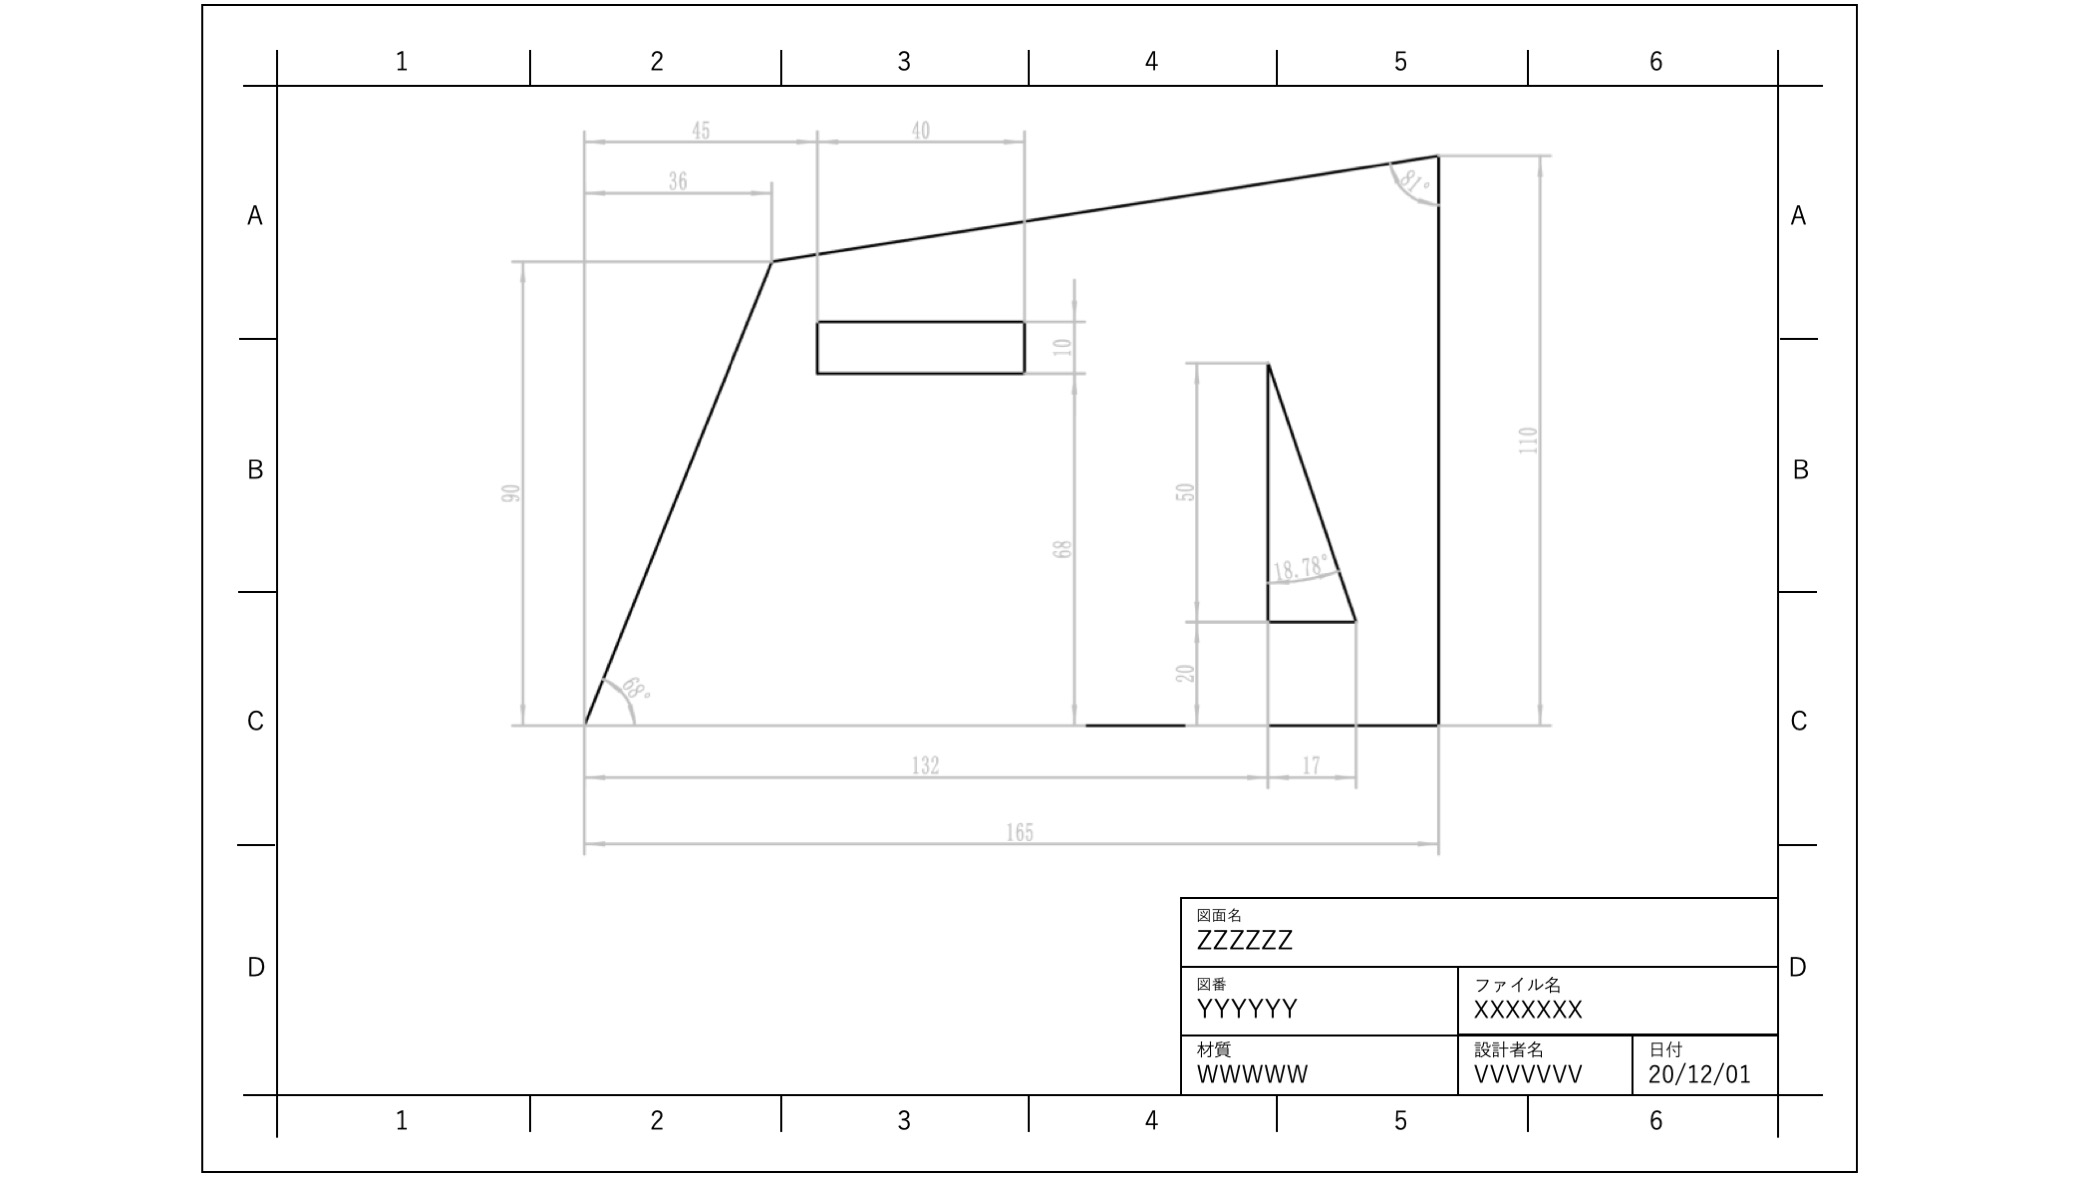rectangle: (806, 309, 1040, 384)
triangle: (1258, 348, 1362, 636)
